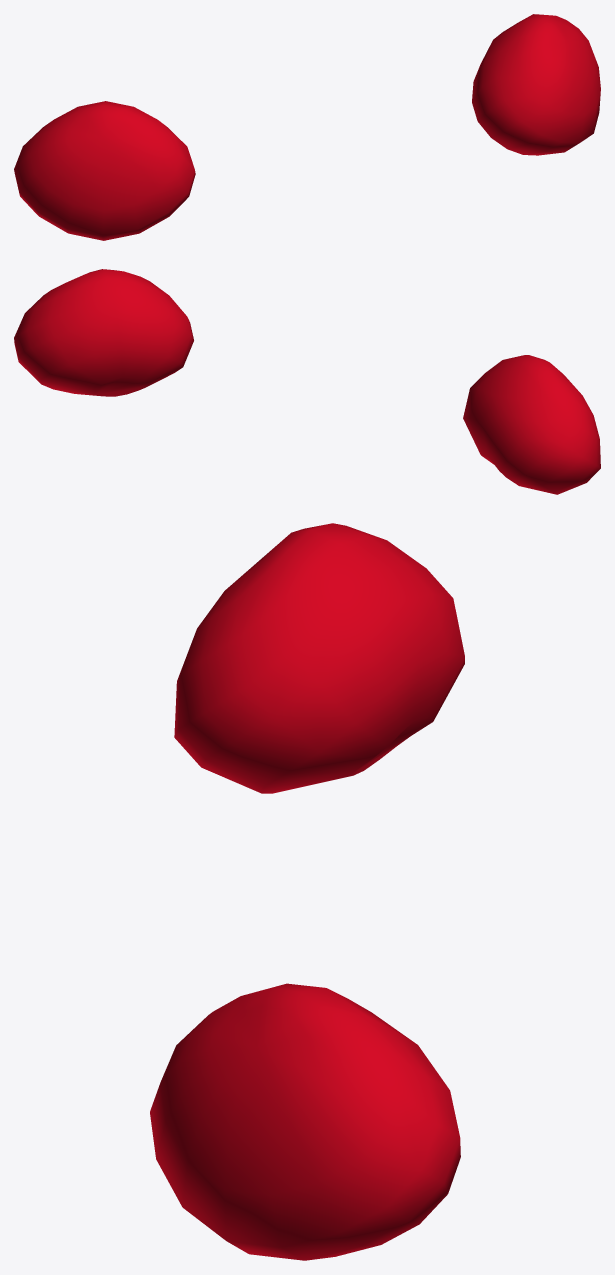
The model's file is pikkuMonsu.fbx.
The picture shows the model from 3 angles, top to bottom: view 1: azimuth 30°, elevation 25°; view 2: azimuth 150°, elevation 25°; view 3: azimuth 270°, elevation 25°; orthographic projection. The views are drawn at different scales.
Parts seen in each view (by area): view 1: pikkuMonsu; view 2: pikkuMonsu; view 3: pikkuMonsu.
Part boxes in pixels (<box>): pikkuMonsu: <box>14,14,600,240</box>; pikkuMonsu: <box>14,269,600,494</box>; pikkuMonsu: <box>150,523,464,1260</box>.
Bounding box in the file's own units: 3.45 × 0.8375 × 0.8197.
